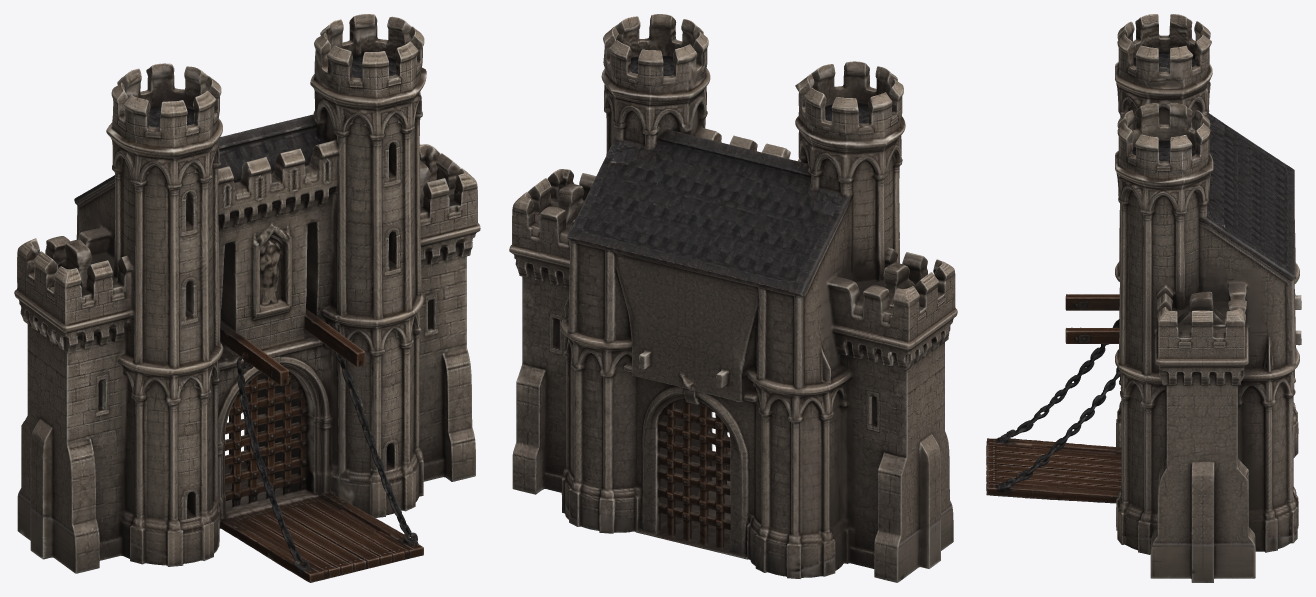
File: suedtor.glb
3 views of the same model, side by side, from view 1: azimuth 30°, elevation 25°; view 2: azimuth 150°, elevation 25°; view 3: azimuth 270°, elevation 25° (orthographic). The views are drawn at different scales.
Bounding box in the file's own units: 1.81 × 1.9 × 1.31.
1 material, 1 textured.
